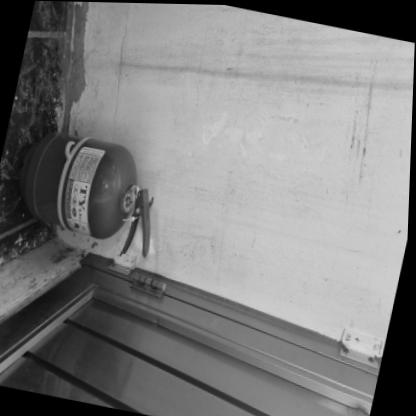FE: (8, 127, 169, 258)
